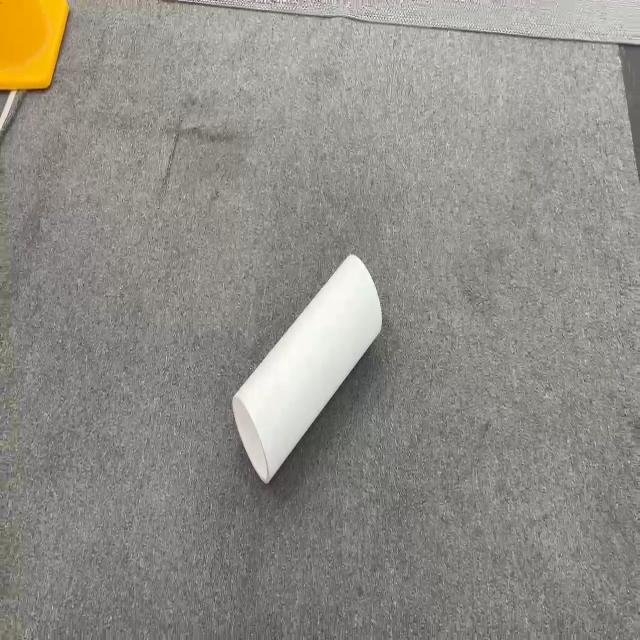coral: (231, 250, 383, 484)
